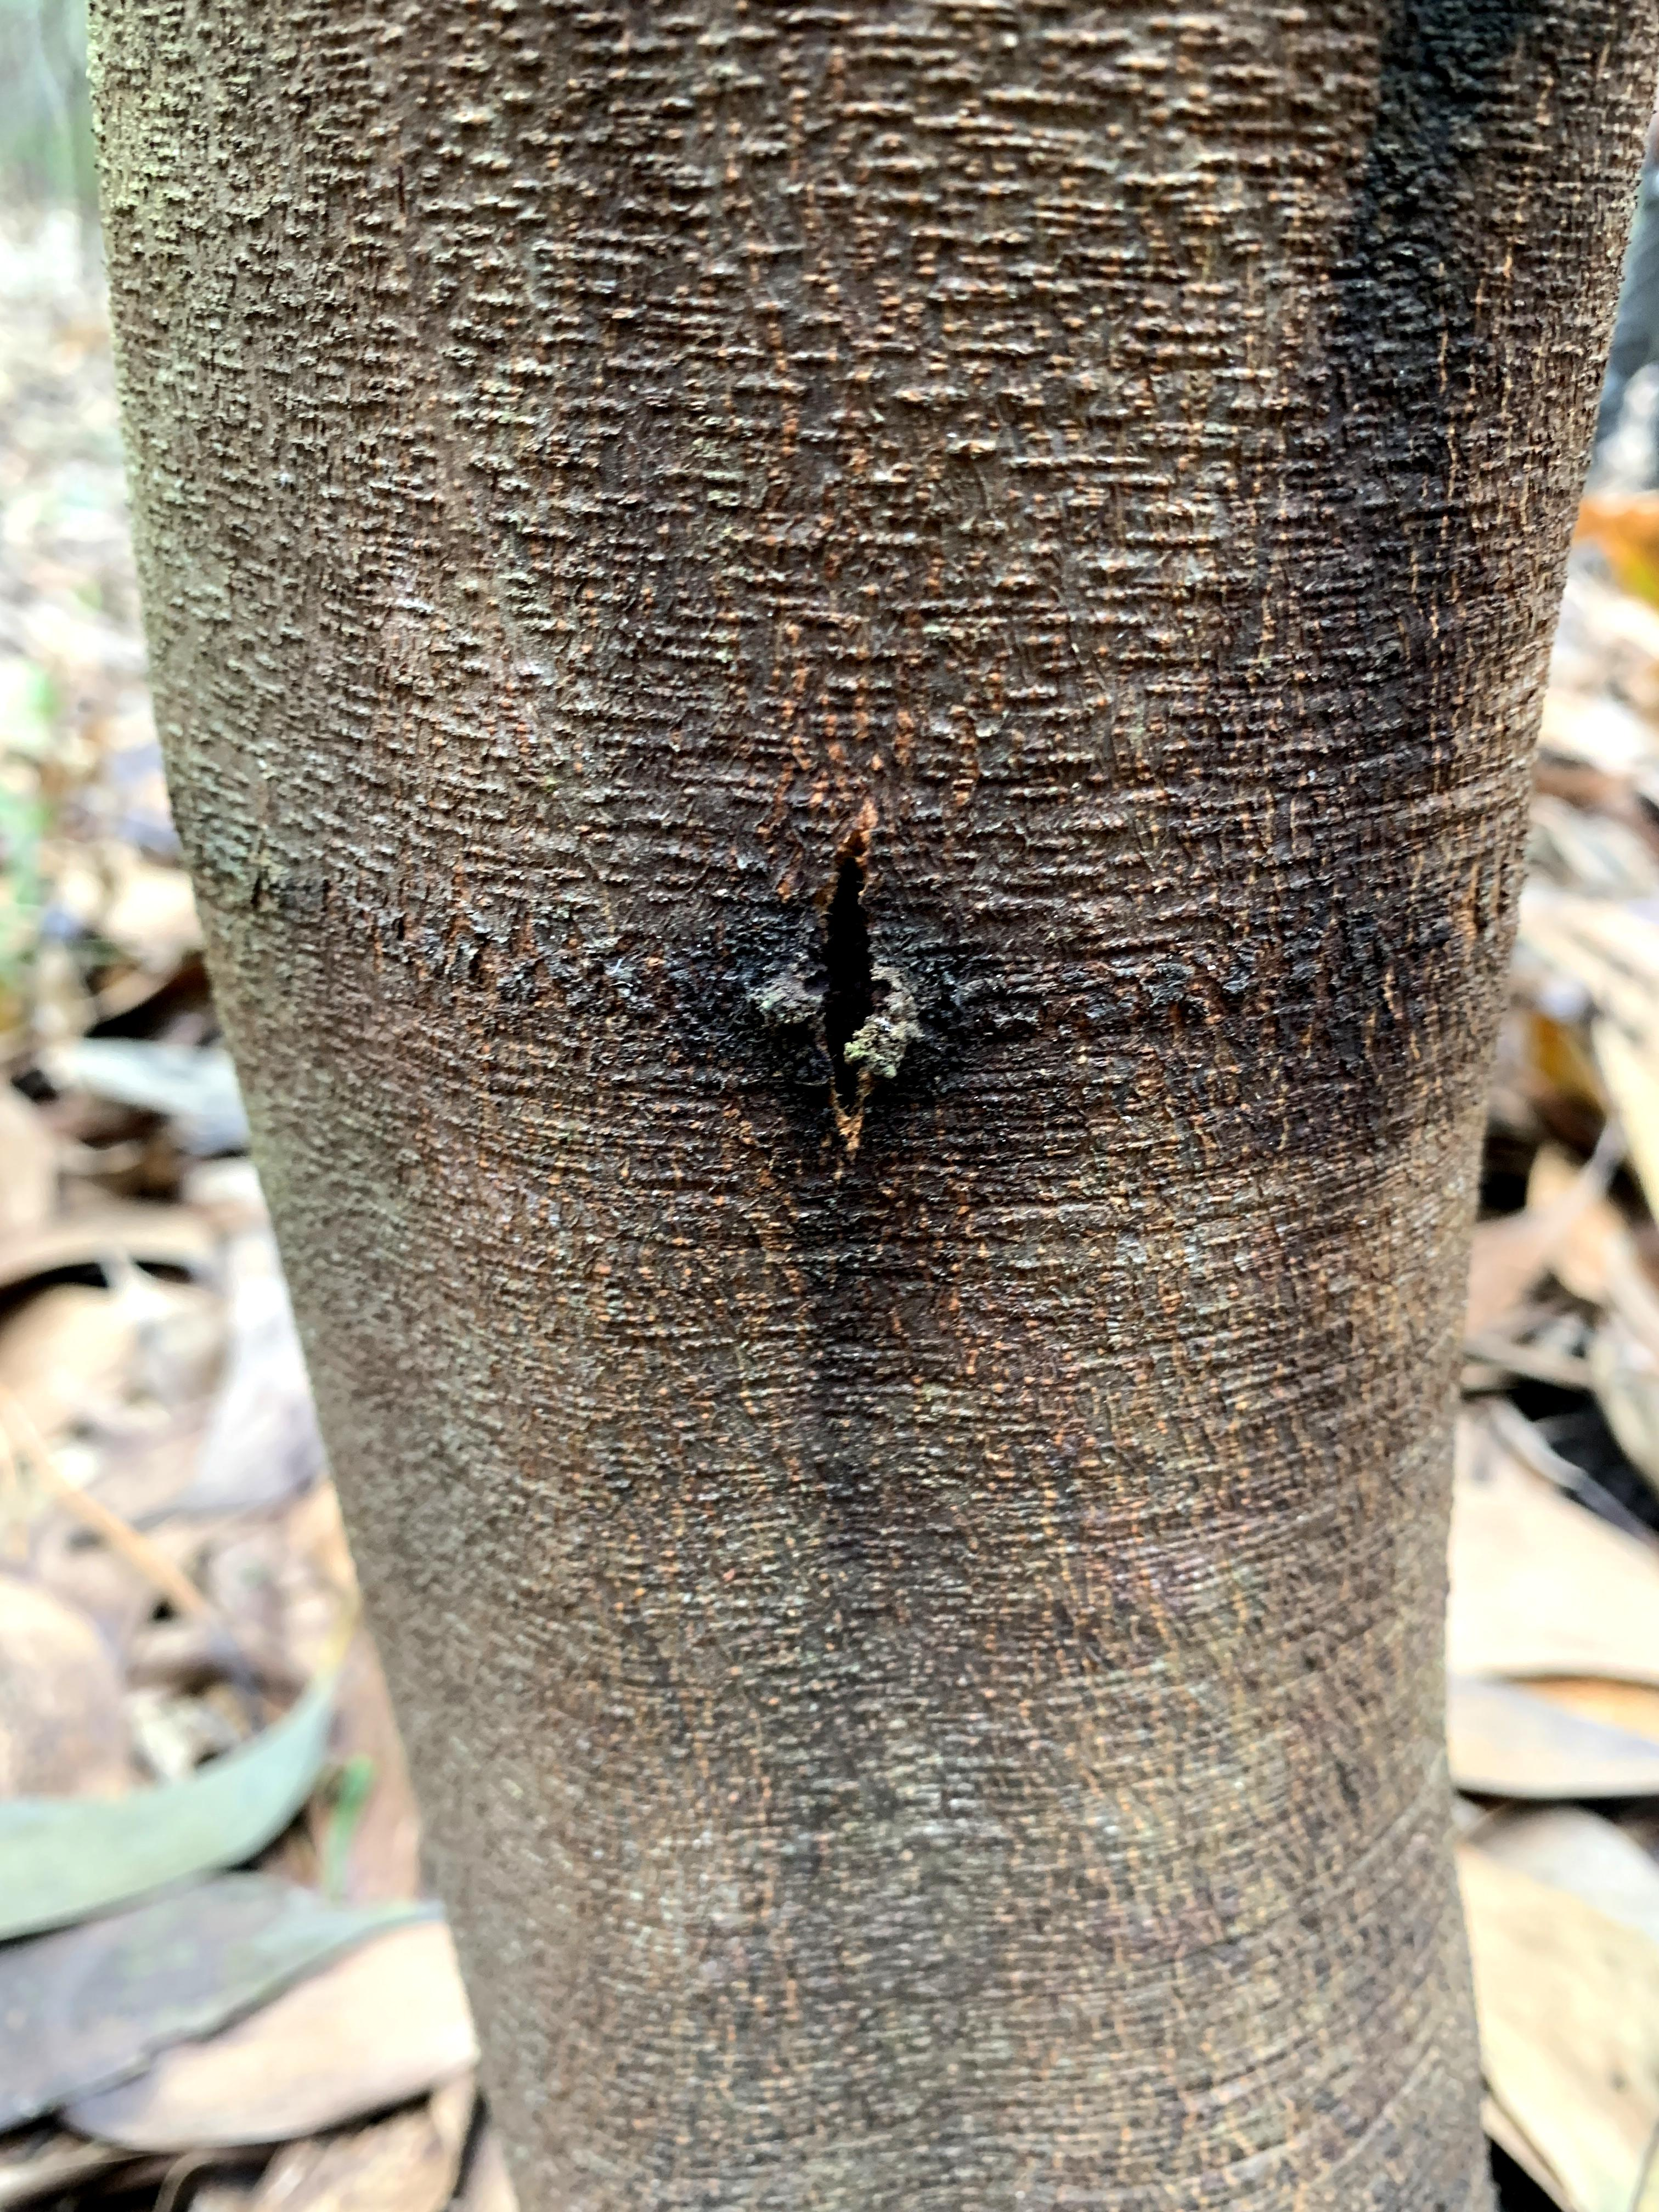Stem Borer: (692, 752, 1042, 1228)
